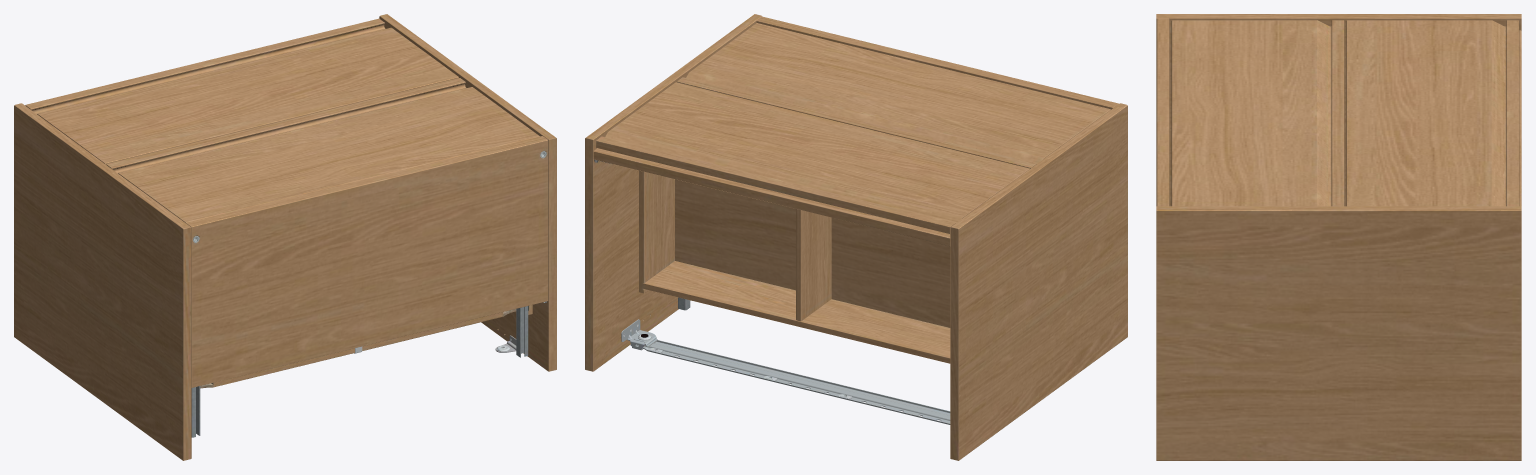
File: wash_stand_70535089.glb
3 views of the same model, side by side, from view 1: azimuth 30°, elevation 25°; view 2: azimuth 150°, elevation 25°; view 3: azimuth 270°, elevation 25° (orthographic). The views are drawn at different scales.
Visible parts, largest first — view 1: 70535089-Ãƒâ€žNGSJÃƒâ€“N001; view 2: 70535089-Ãƒâ€žNGSJÃƒâ€“N001; view 3: 70535089-Ãƒâ€žNGSJÃƒâ€“N001.
Boxes of the visible parts, bbox=[...] form: 70535089-Ãƒâ€žNGSJÃƒâ€“N001: bbox=[14, 14, 556, 460]; 70535089-Ãƒâ€žNGSJÃƒâ€“N001: bbox=[585, 14, 1127, 460]; 70535089-Ãƒâ€žNGSJÃƒâ€“N001: bbox=[1156, 14, 1521, 460].
Bounding box in the file's own units: 0.8 × 0.4751 × 0.6281.
Materials: 1 (1 with a texture image).
